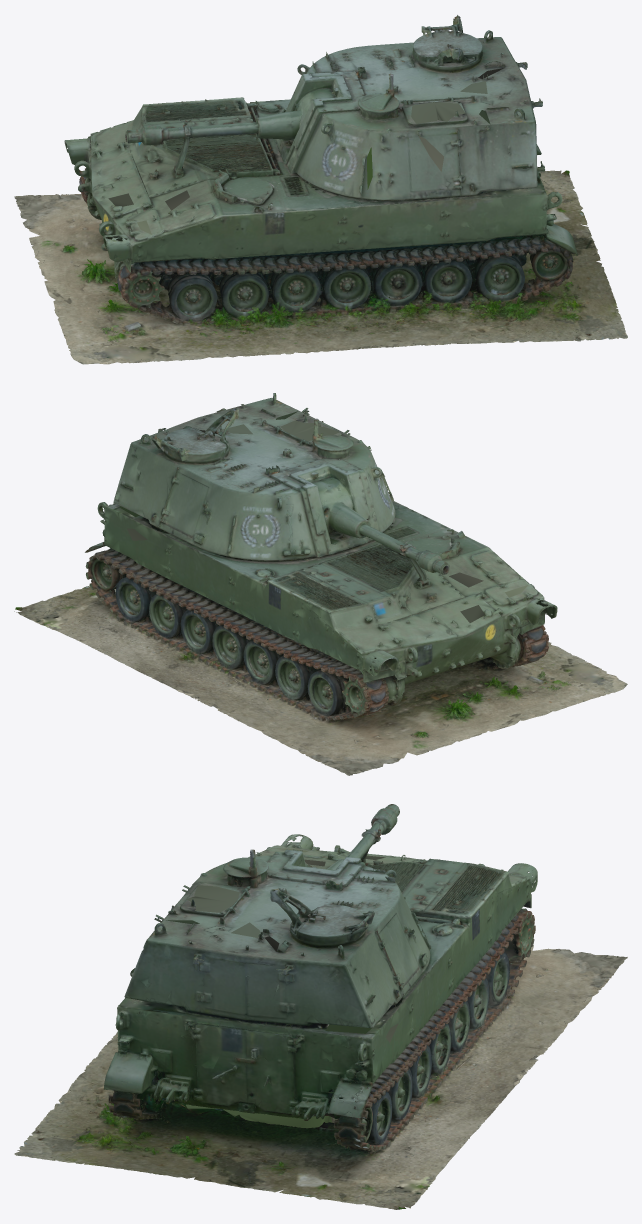
Rendered from howitzer_artillery_tank.glb.
The picture shows the model from 3 angles, top to bottom: view 1: azimuth 30°, elevation 25°; view 2: azimuth 150°, elevation 25°; view 3: azimuth 270°, elevation 25°; orthographic projection. The views are drawn at different scales.
Visible parts, largest first — view 1: Stereo textured mesh; view 2: Stereo textured mesh; view 3: Stereo textured mesh.
Part boxes in pixels (x1,y1,x2,y2): Stereo textured mesh: (14, 15, 627, 364); Stereo textured mesh: (14, 393, 627, 775); Stereo textured mesh: (14, 804, 627, 1209).
Size of the model in its own units: 8 by 2.92 by 6.86.
1 material, 1 textured.
